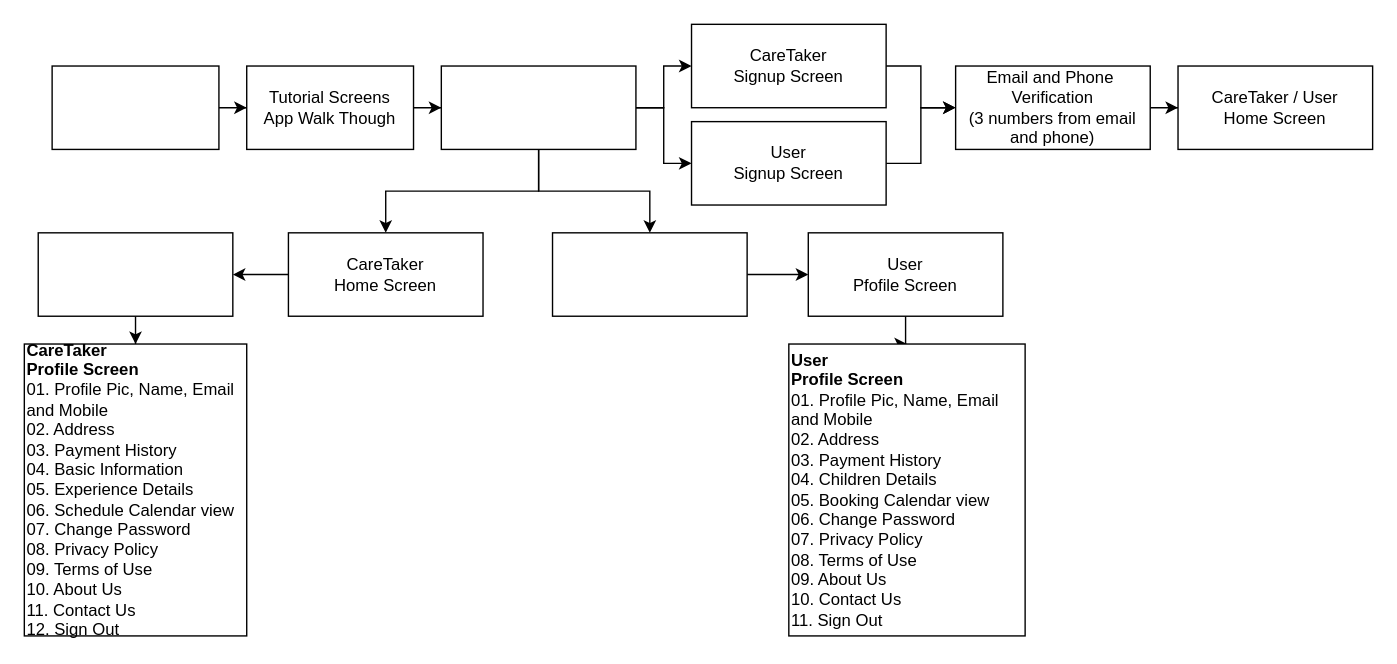
This 1397x664 diagram has some shape labels left out. Each missing label, with the box of its shape:
CareTaker Profile Screen: (37, 231, 233, 316)
Signup as CareTaker Signup as a User Login / Forgot Password: (440, 65, 636, 149)
Splash Screen: (51, 65, 219, 149)
User Home Screen: (551, 231, 747, 316)
